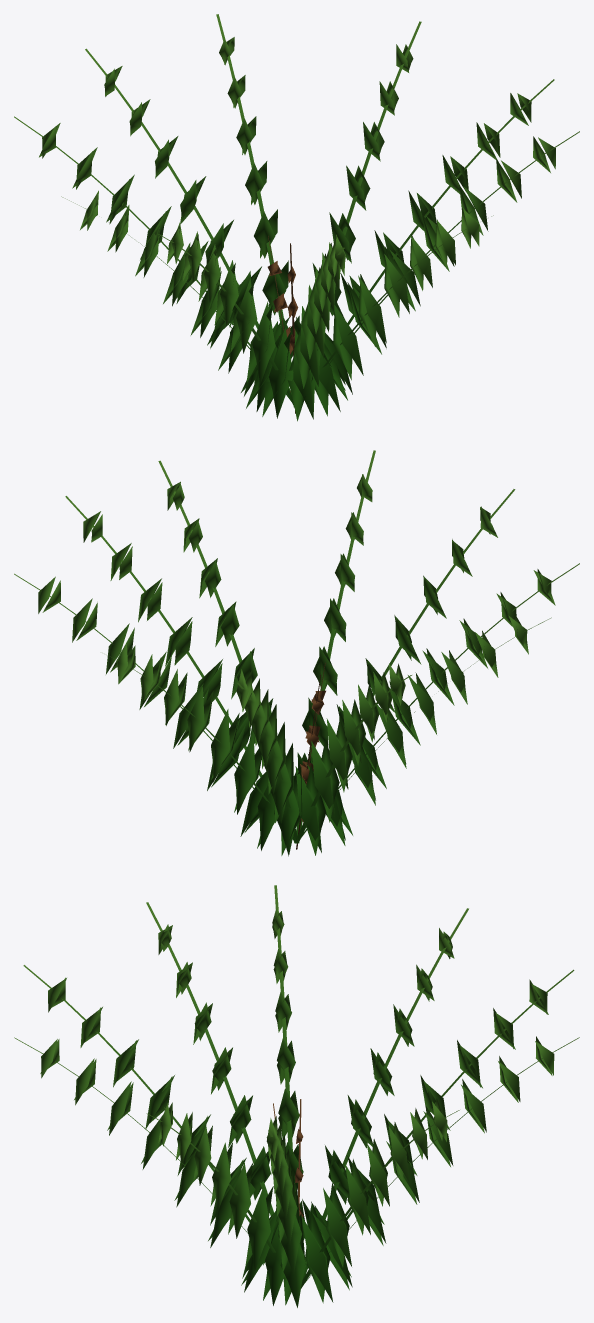
Rendered from Fern_Ostrich.glb.
3 renders of one model, top to bottom at view 1: azimuth 30°, elevation 25°; view 2: azimuth 150°, elevation 25°; view 3: azimuth 270°, elevation 25°, orthographic. The views are drawn at different scales.
Visible parts, largest first — view 1: Fern_Ostrich; view 2: Fern_Ostrich; view 3: Fern_Ostrich.
Part boxes in pixels (x1,y1,x2,y2): Fern_Ostrich: (14, 14, 579, 421); Fern_Ostrich: (14, 450, 579, 856); Fern_Ostrich: (14, 885, 579, 1307).
Size of the model in its own units: 1.58 by 0.8754 by 1.54.
